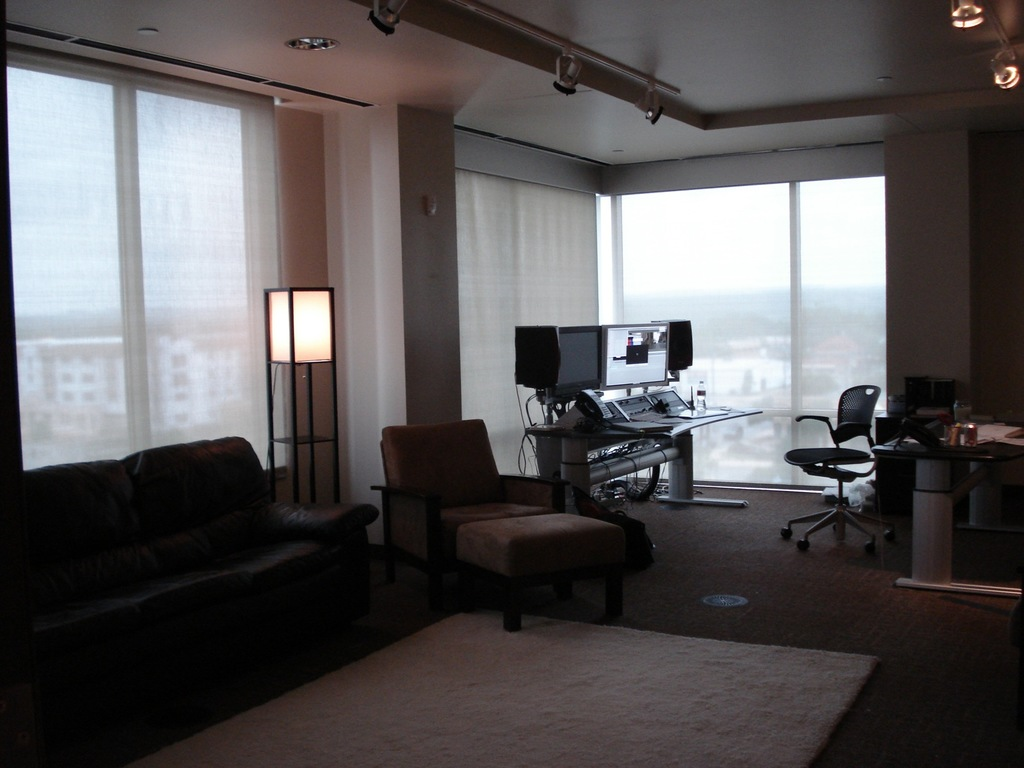Couch: (0, 447, 403, 744)
